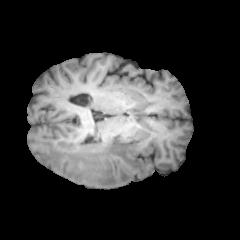glioma: (40, 131, 144, 187)
